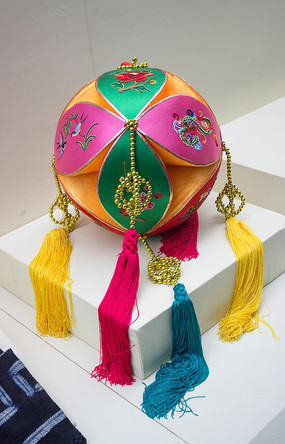xiuqiu: (59, 63, 220, 234)
